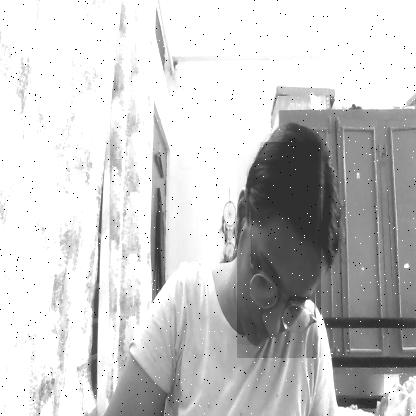Distracted: (238, 142, 322, 359)
